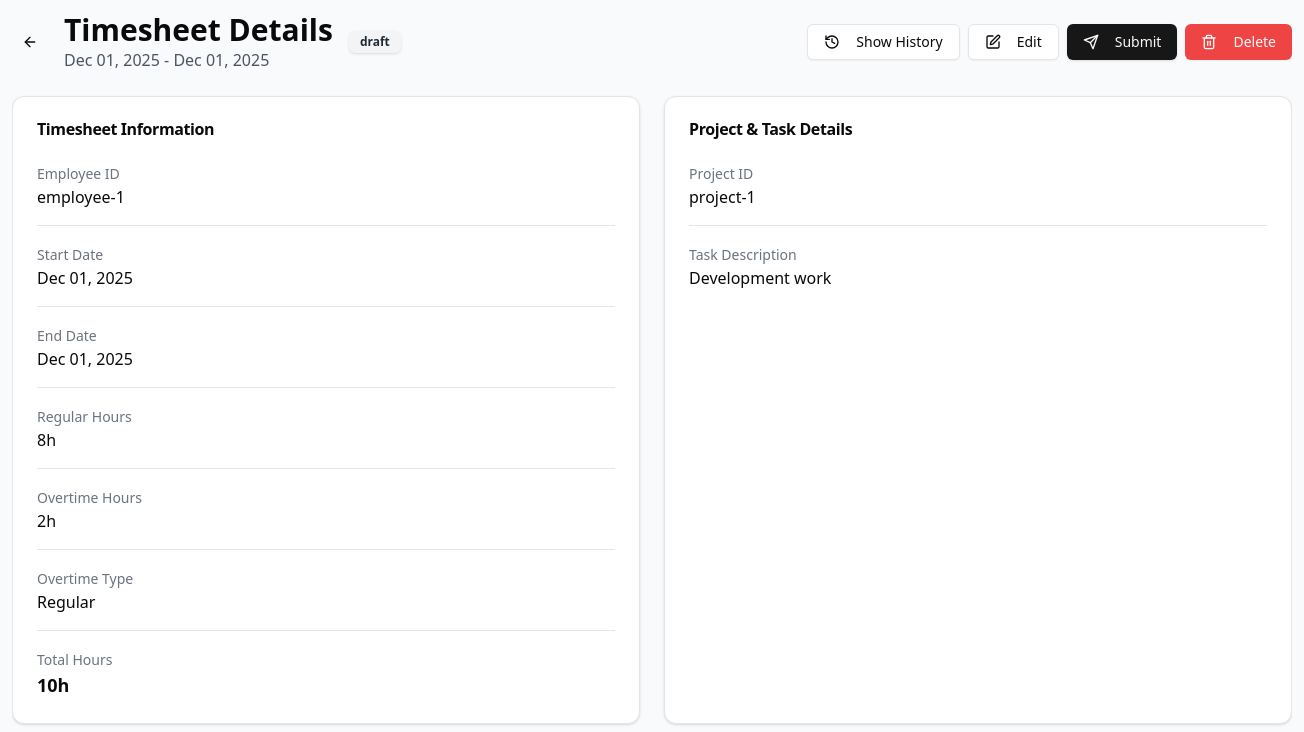
Test: TimesheetDetail › should toggle history button text
The image size is (1304, 732).
Click the button "Show History".
click(883, 42)  # box [807, 24, 960, 60]
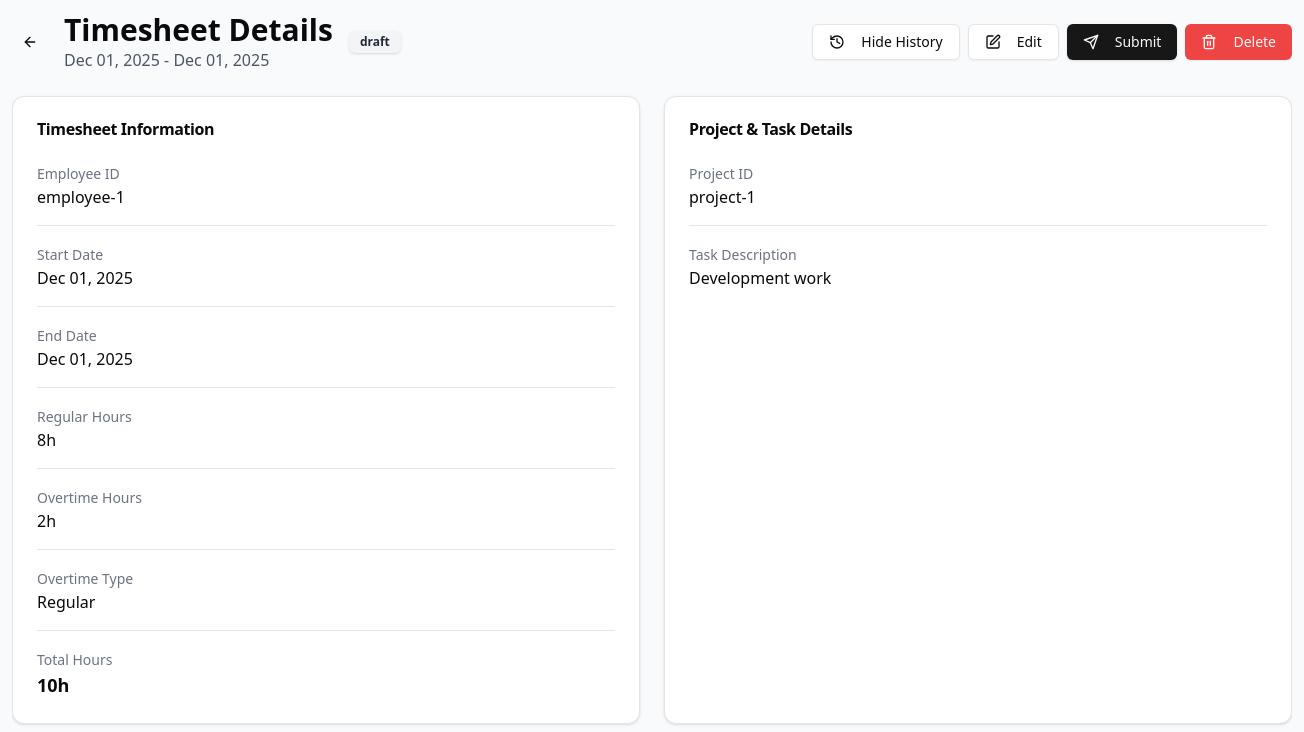
Expected: the button "Hide History" is shown, [812, 24, 960, 60]
